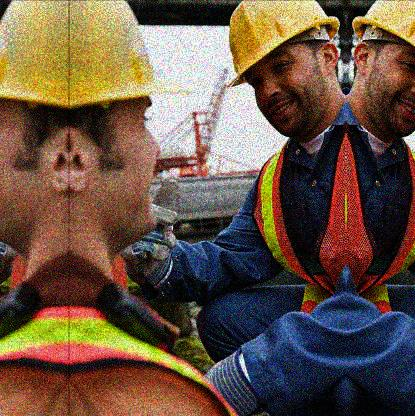helmet: (69, 1, 193, 247), (1, 1, 70, 248), (223, 1, 340, 138), (350, 2, 415, 139)
